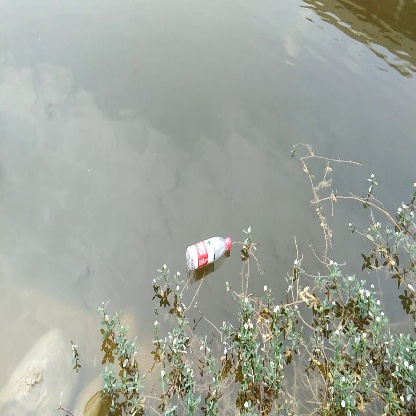bottle: (181, 234, 235, 272)
